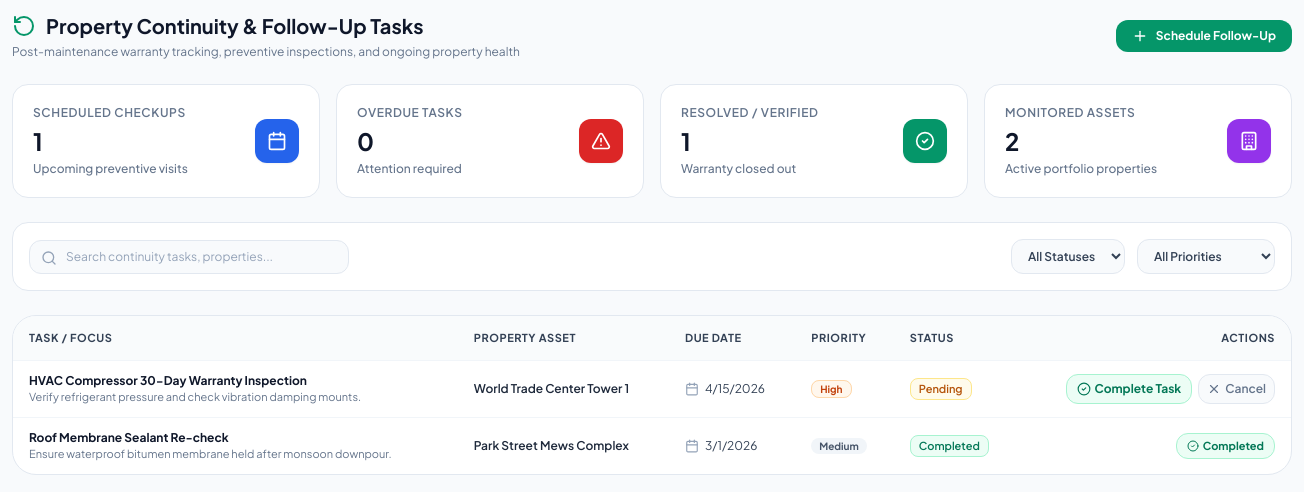
Test case: FollowUpContinuityPage › filters tasks by status dropdown
Expected: the text "HVAC Compressor 30-Day Warranty Inspection" is shown, [29,373,307,388]
Select "Completed" in the 1st dropdown at (1068,256), box [1011,239,1125,274]
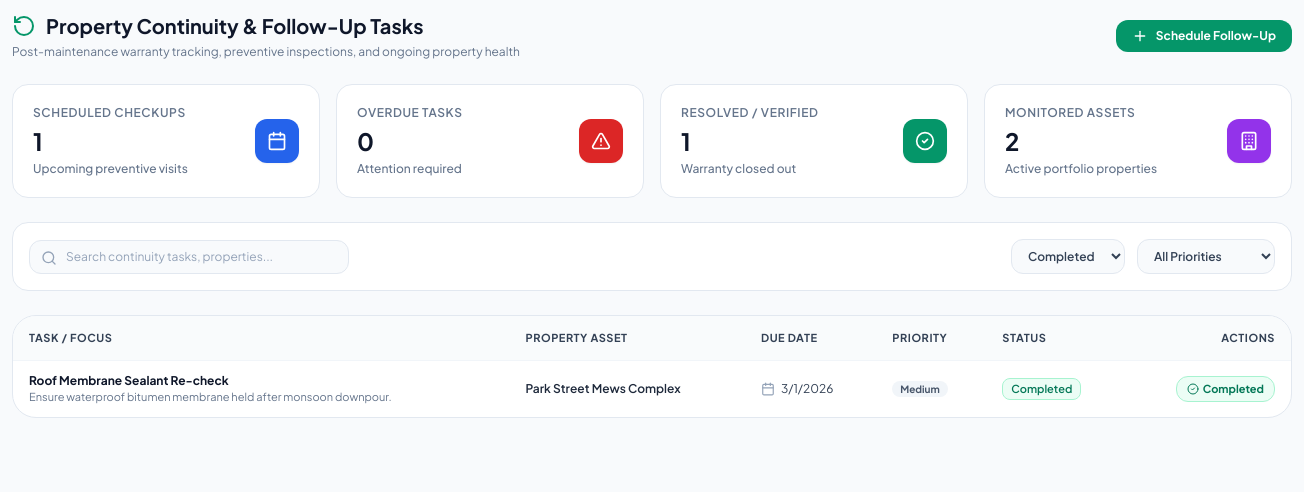
Expected: the text "Roof Membrane Sealant Re-check" is shown, [29,373,229,388]
Expected: the text "HVAC Compressor 30-Day Warranty Inspection" is gone
